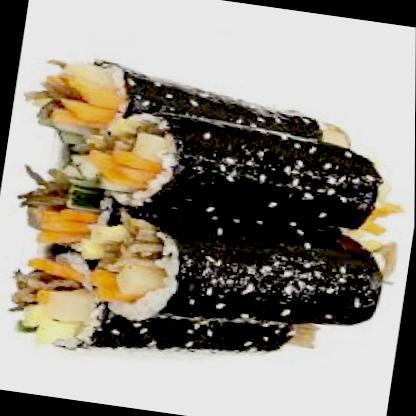rice: (12, 57, 415, 383)
